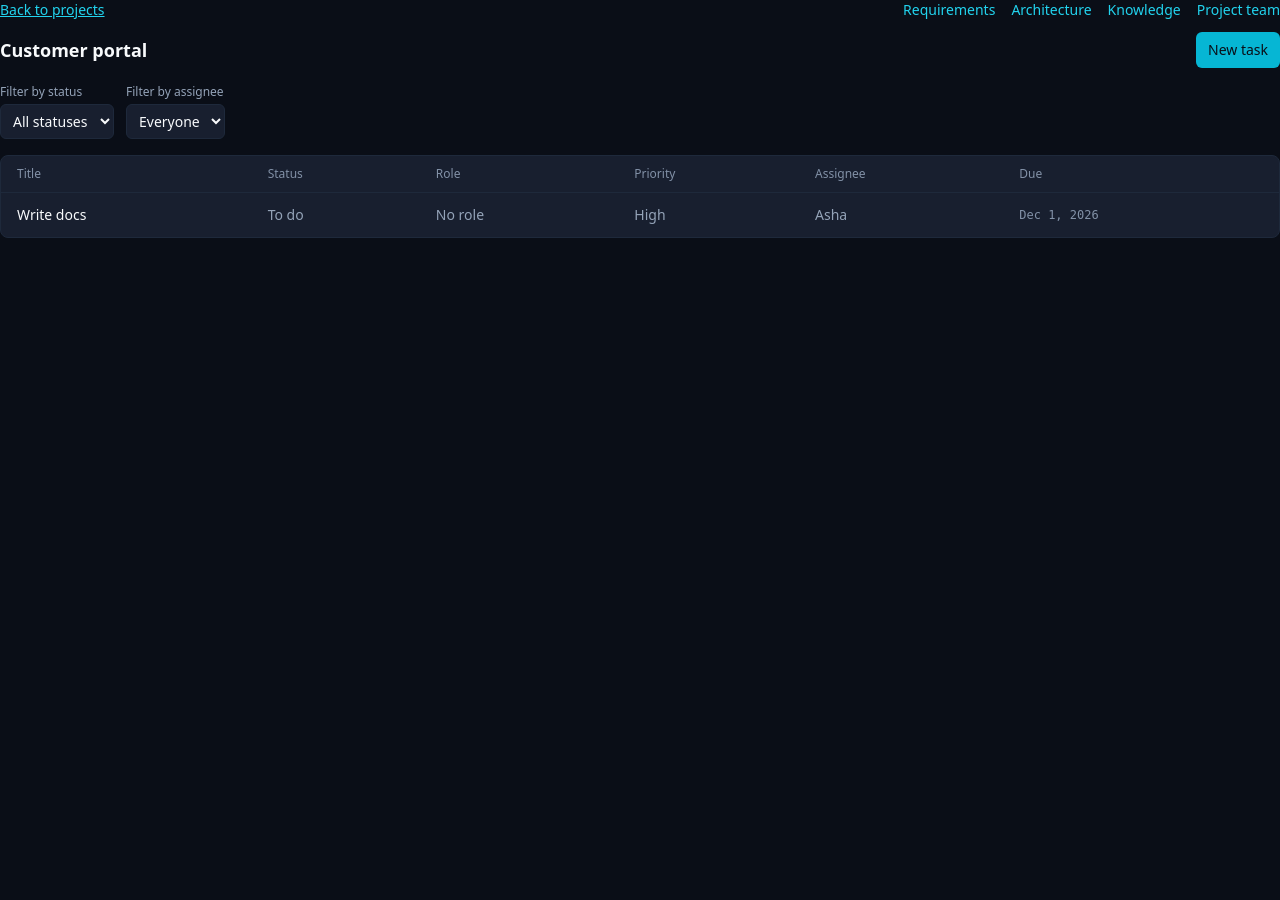
TaskListPage › keeps typed text and offers reload on 409
The width and height of the screenshot is (1280, 900).
Click the button "Write docs": (52, 215) [17, 205, 86, 225]
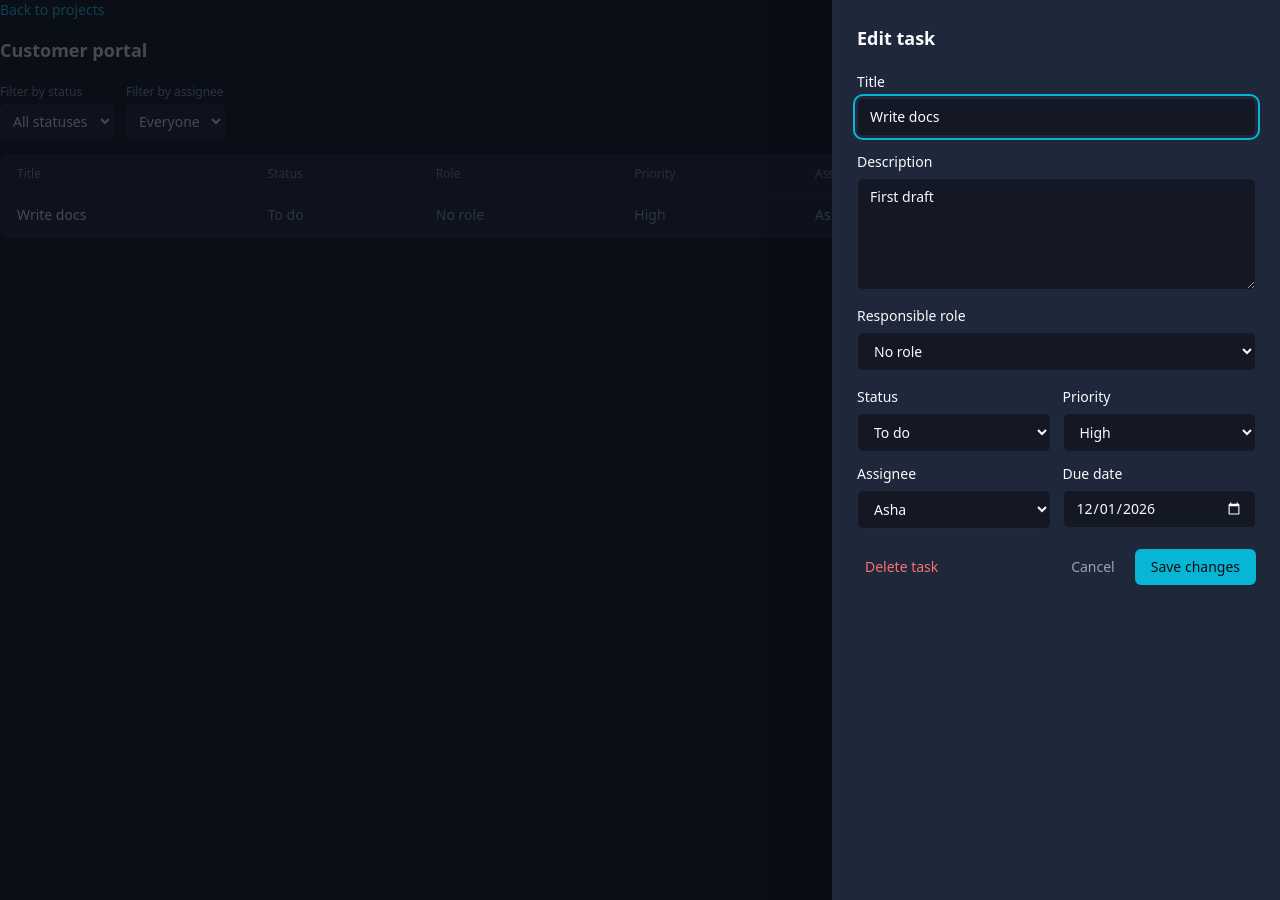
Replace the text in the field labelled "Title" with "My unsaved title": (1056, 117) [857, 98, 1256, 136]
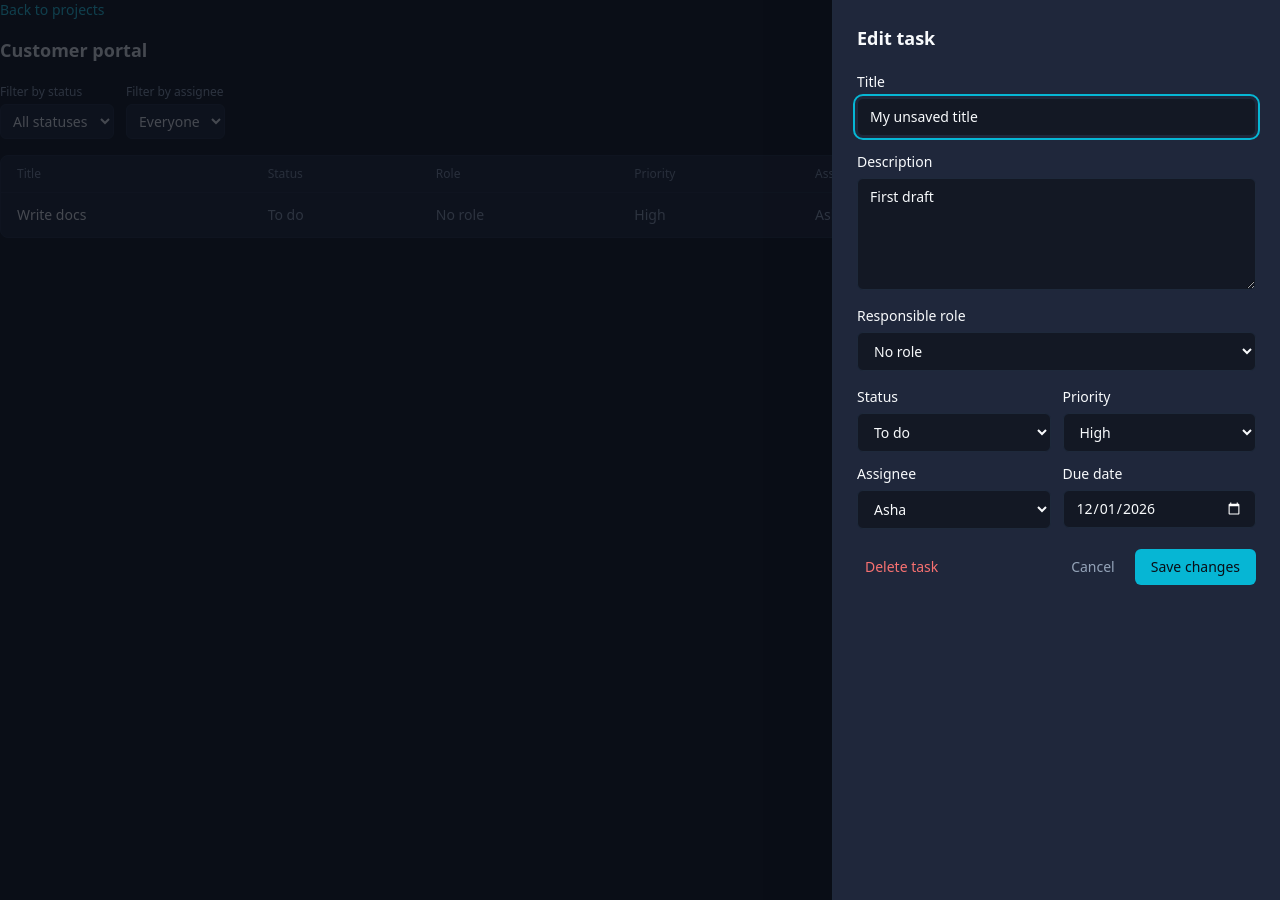
Click the button "Save changes": (1195, 567) [1135, 549, 1256, 585]
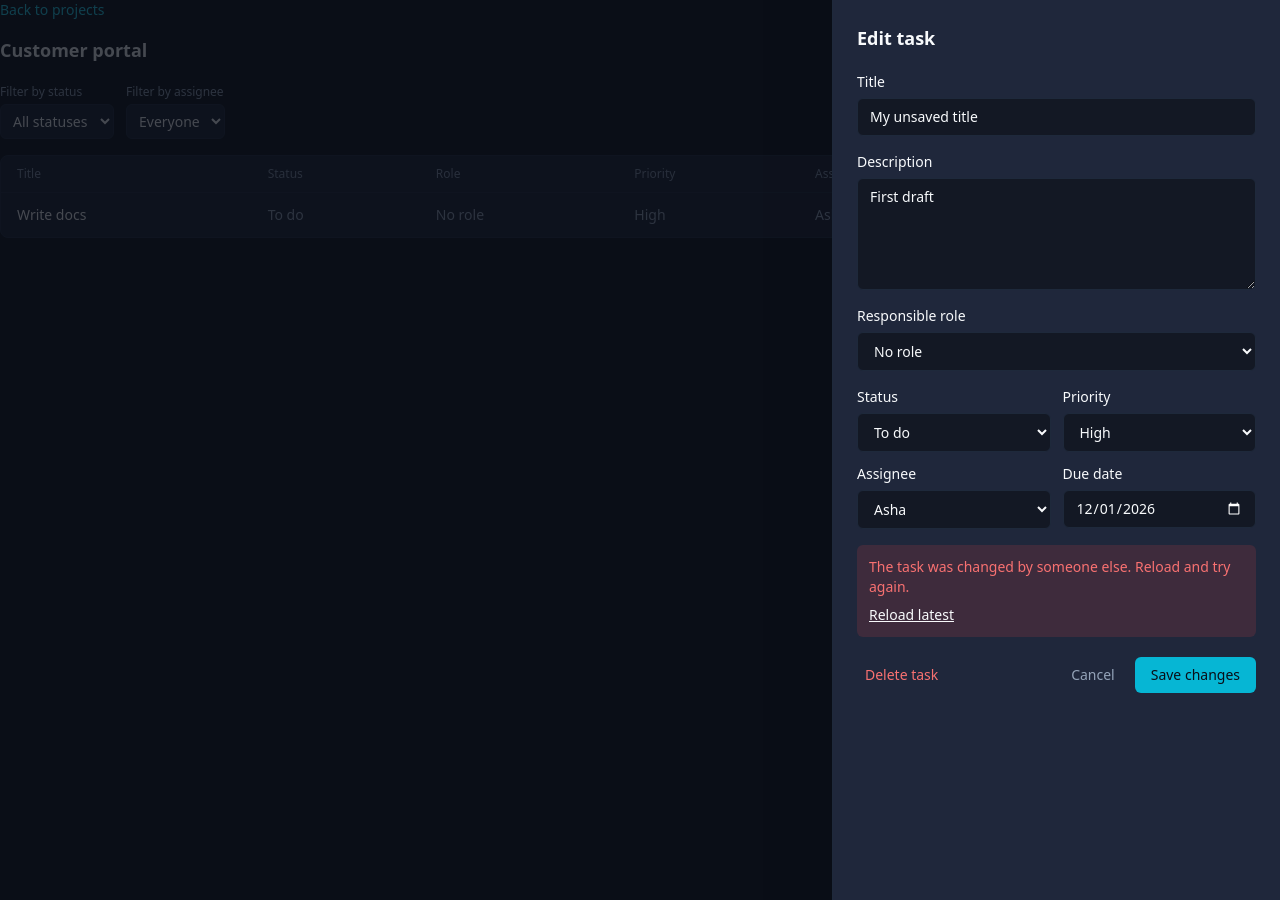
Result: the message shows "changed by someone else" at [869, 557, 1230, 596]
Click the button "Reload latest": (912, 615) [869, 605, 954, 625]
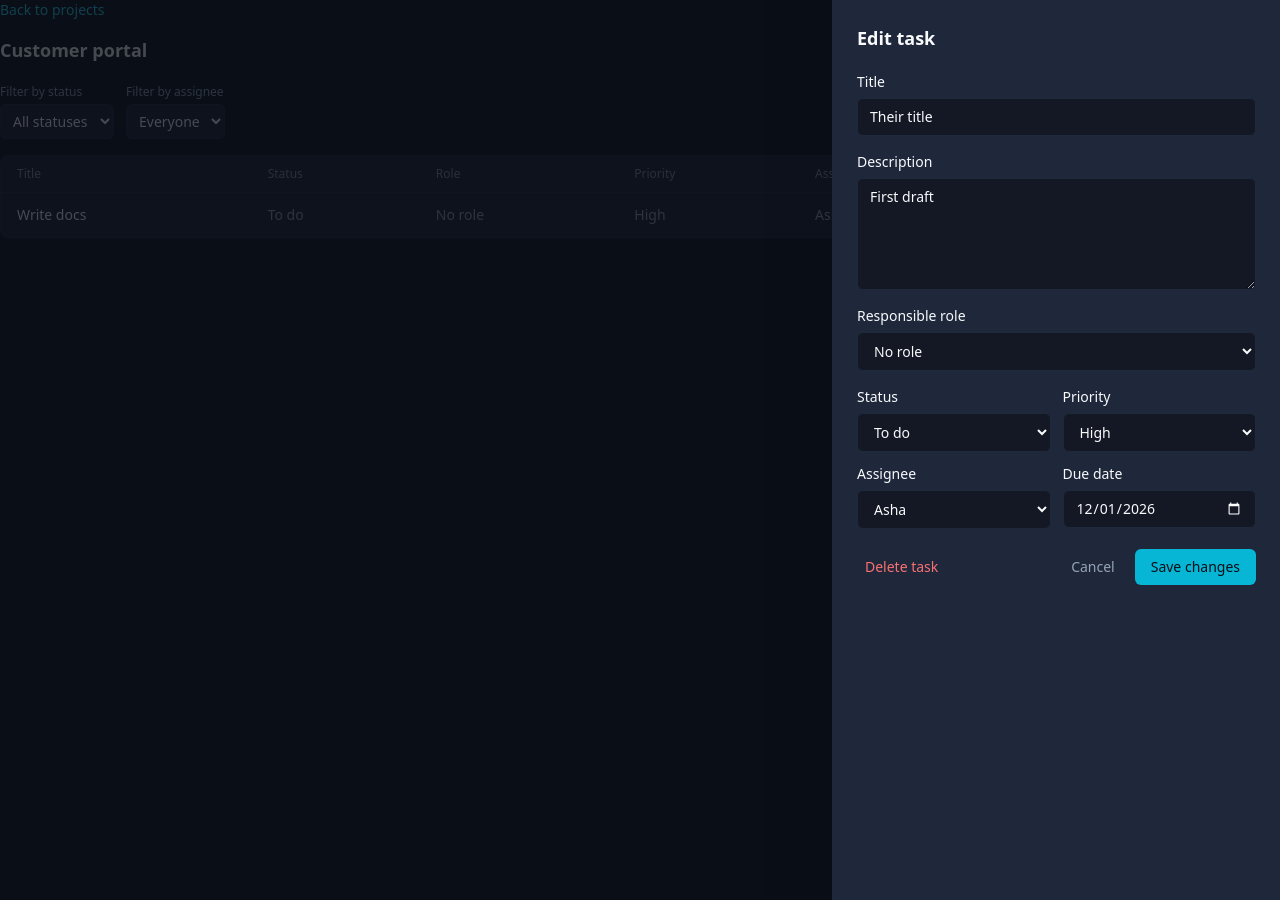
Result: the field labelled "Title" holds "Their title" at [857, 98, 1256, 136]
Result: the message "The task was changed by someone else. Reload and try again. Reload latest" is gone
